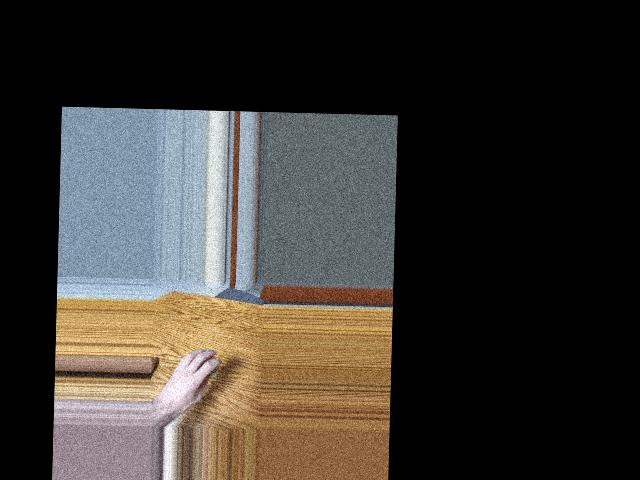onion: (193, 354, 219, 379)
